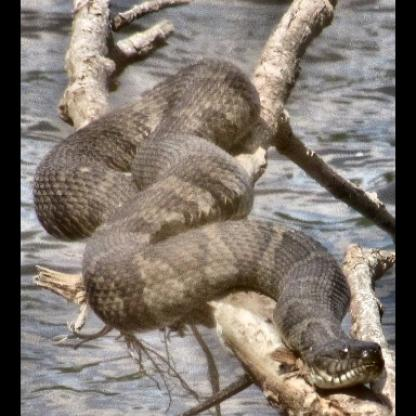Snake: (29, 54, 390, 392)
